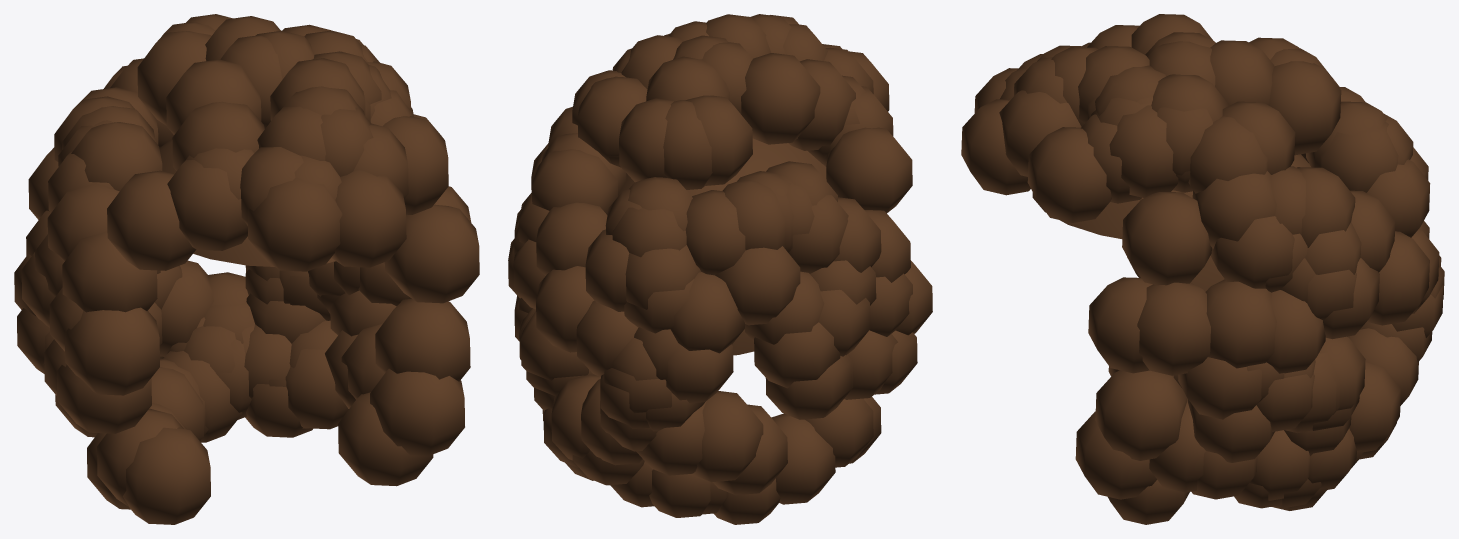
Rendered from afro_f.glb.
3 views of the same model, side by side, from view 1: azimuth 30°, elevation 25°; view 2: azimuth 150°, elevation 25°; view 3: azimuth 270°, elevation 25° (orthographic). The views are drawn at different scales.
Parts seen in each view (by area): view 1: afro_f; view 2: afro_f; view 3: afro_f.
Part boxes in pixels (x1,y1,x2,y2): afro_f: [14, 14, 479, 524]; afro_f: [508, 14, 932, 524]; afro_f: [961, 14, 1444, 524].
Bounding box in the file's own units: 0.2899 × 0.3254 × 0.3134.
